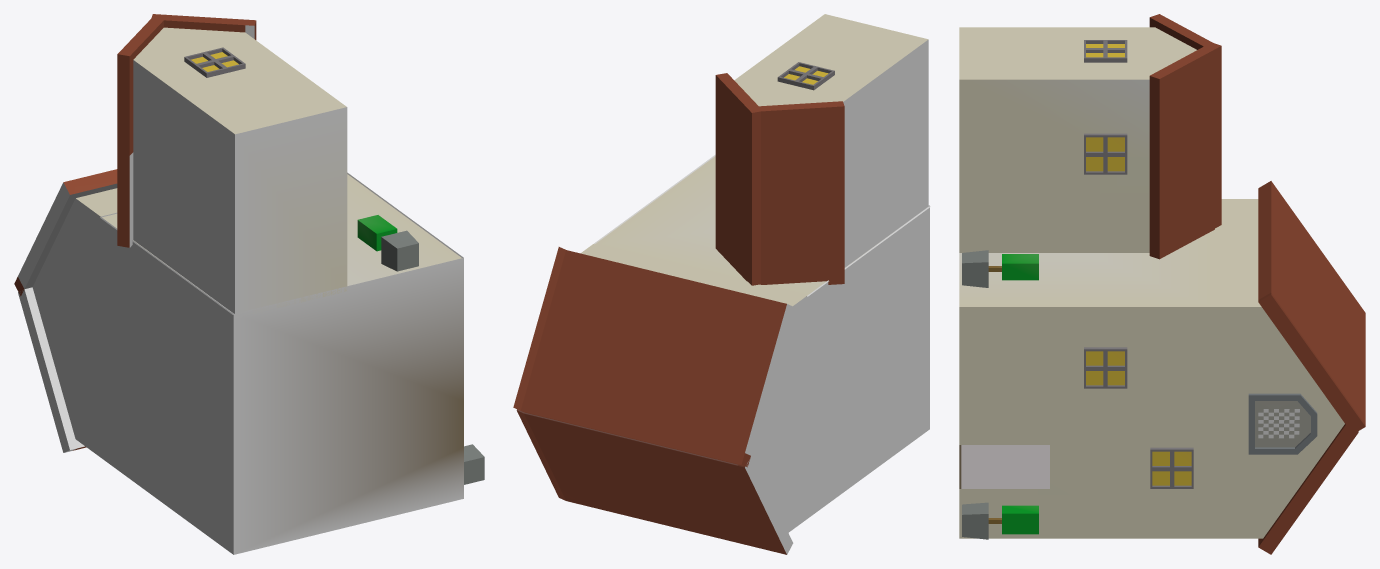
File: house.dae
The picture shows the model from 3 angles, left to right: view 1: azimuth 30°, elevation 25°; view 2: azimuth 150°, elevation 25°; view 3: azimuth 270°, elevation 25°; orthographic projection. The views are drawn at different scales.
Visible parts, largest first — view 1: Cube; view 2: Cube; view 3: Cube.
Boxes of the visible parts, bbox=[...] form: Cube: bbox=[14, 14, 484, 554]; Cube: bbox=[513, 14, 930, 554]; Cube: bbox=[959, 14, 1365, 554].
Bounding box in the file's own units: 2.31 × 3.18 × 3.67.
